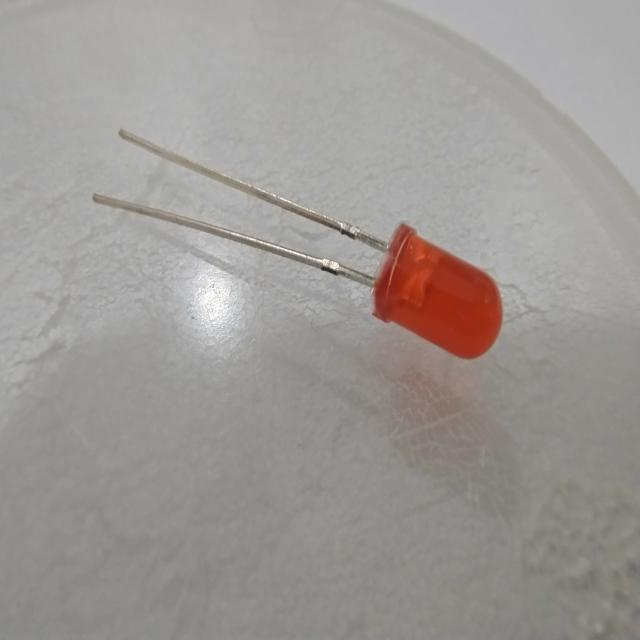red_led: (359, 206, 515, 382)
